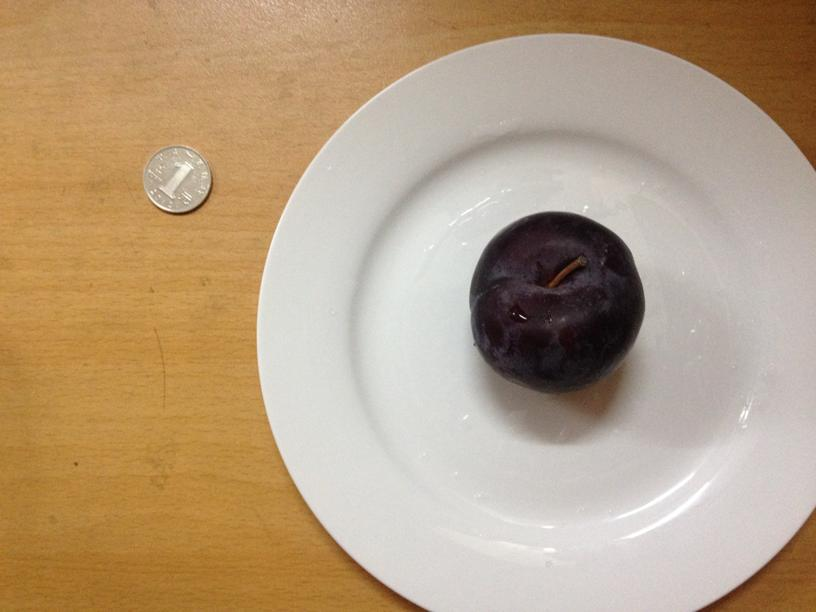coin: (138, 145, 212, 214)
plum: (469, 213, 644, 390)
